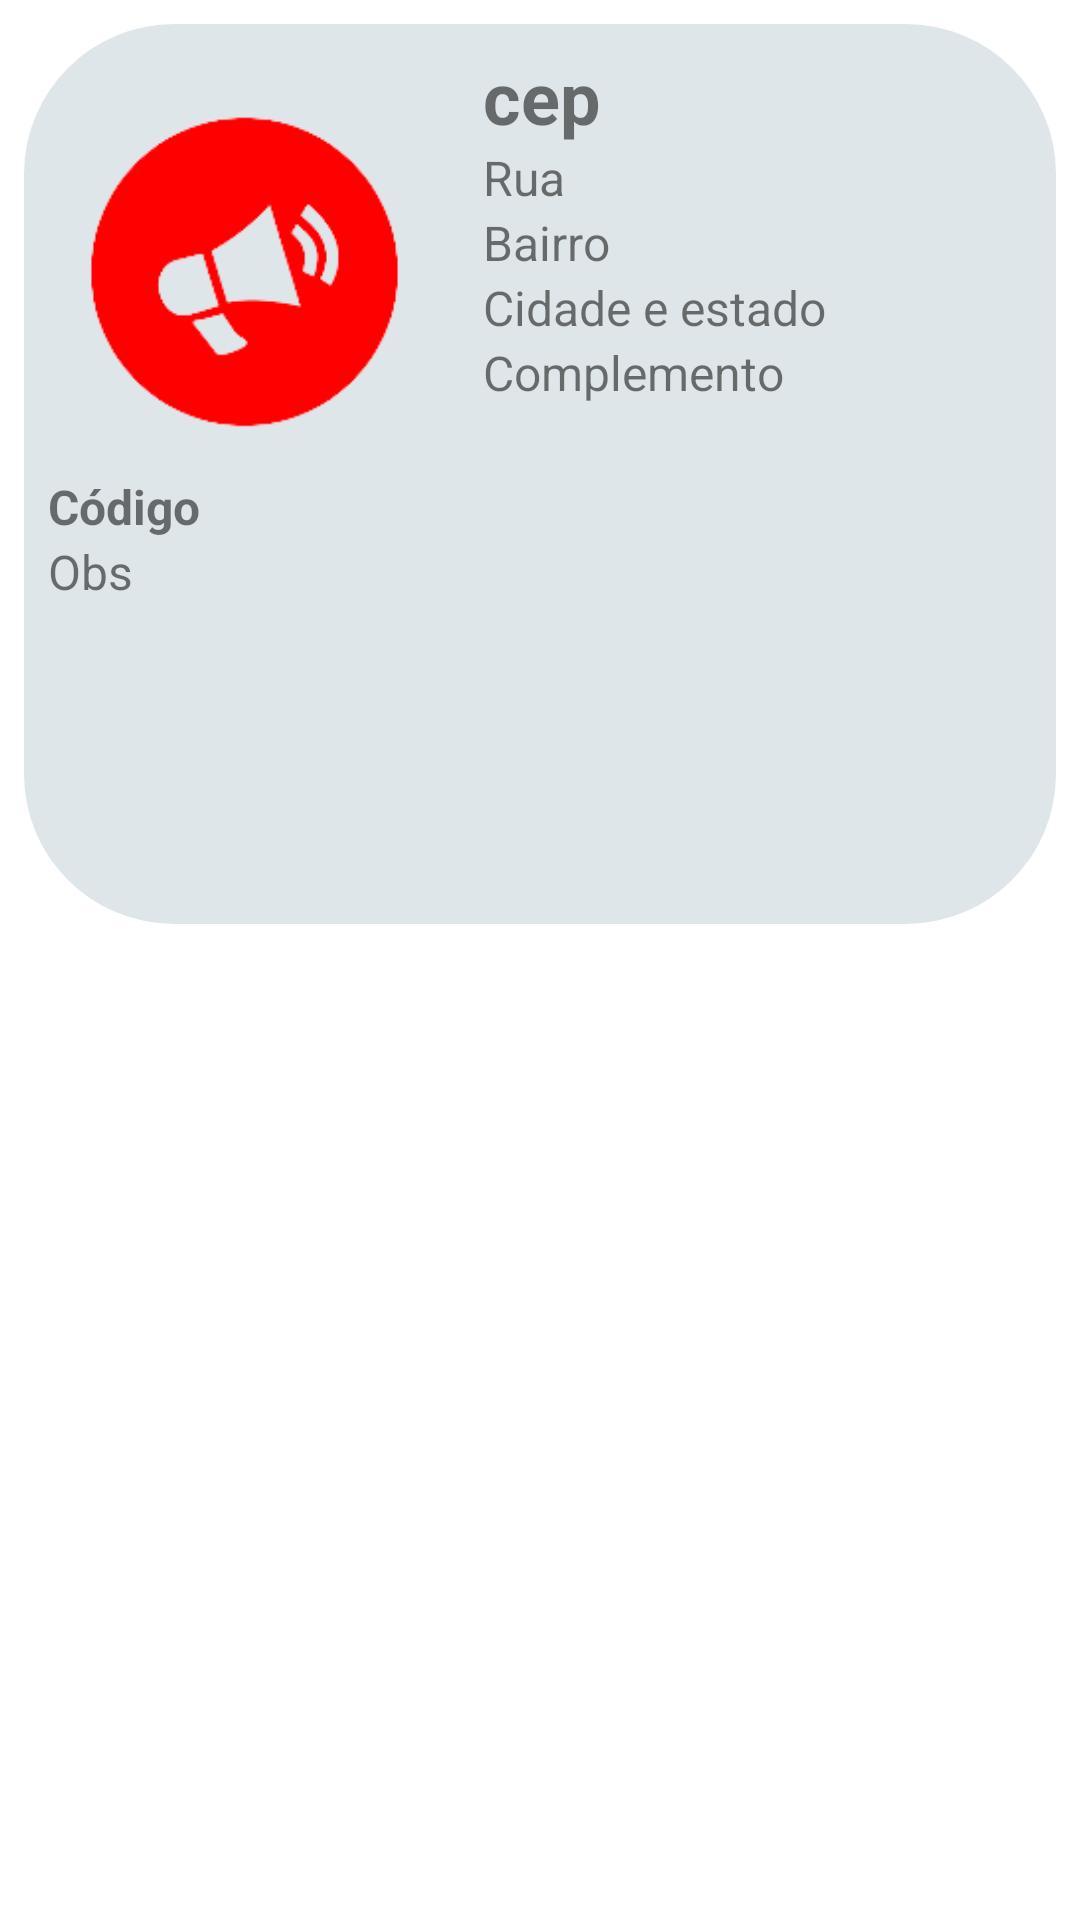

Icon click points for this 1080w x 1920h phone screenshot, format [x,y]:
denuncia: [244,272]
